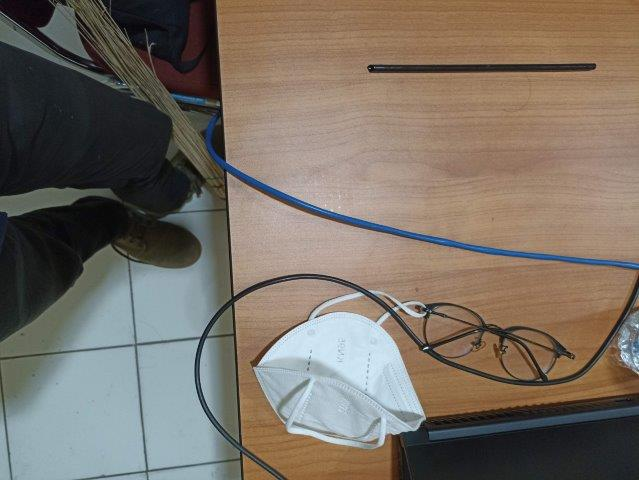sedotan: (368, 63, 596, 73)
